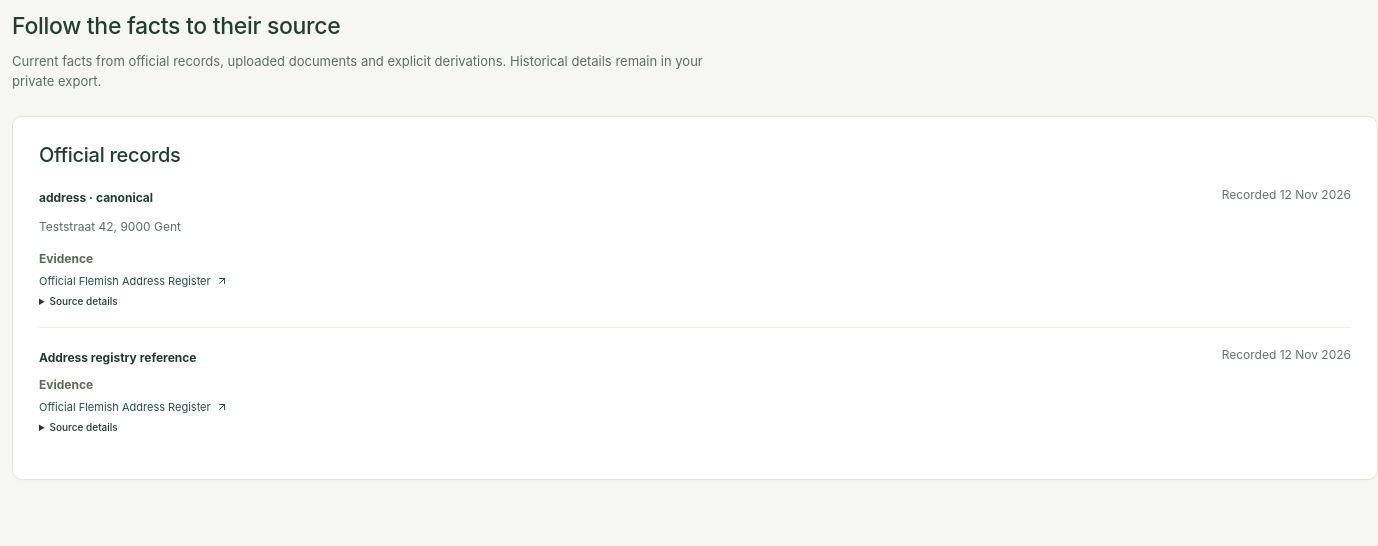
Scenario: Evidence keeps source details closed, with readable facts, authority, source and date
Expected: the heading "Official records" is shown, [39,143,180,167]
Expected: the text "Teststraat 42, 9000 Gent" is shown, [39,219,181,234]
What coordinates should you click on to do the following:
click the heading "Source details" below "Address registry reference"
I would click on:
 (84, 427)
Its box is [50,421,118,433].
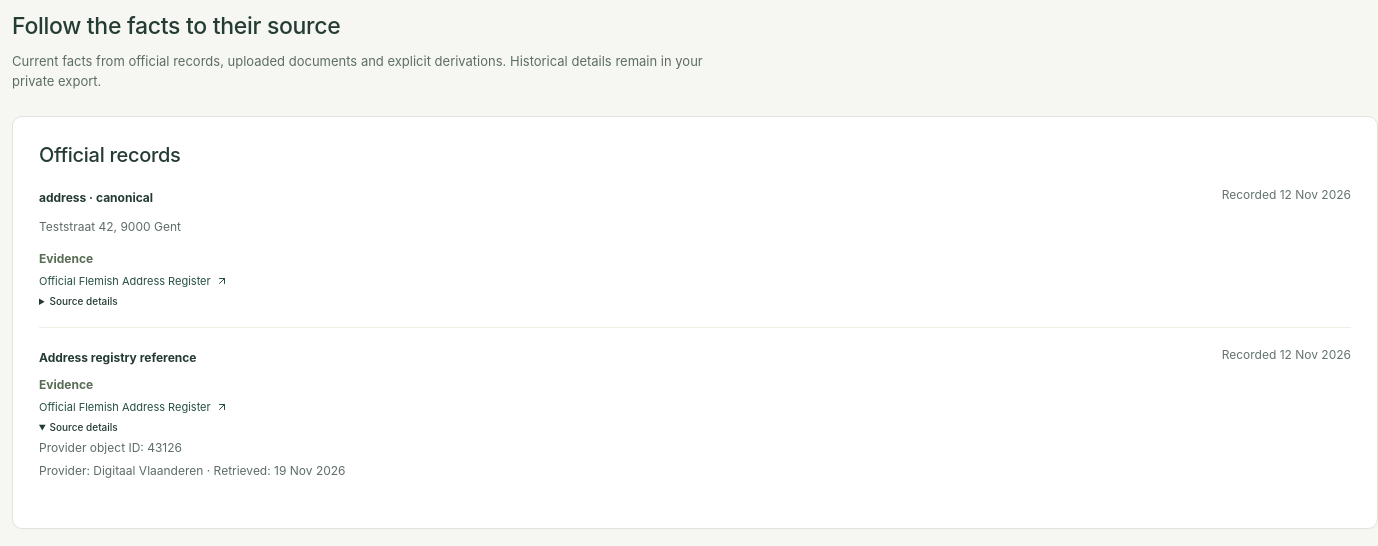
Result: the text "Provider object ID: 43126" is shown at [39,440,182,455]
Result: the text "Provider: Digitaal Vlaanderen" is shown at [39,463,203,478]
Result: the text "Retrieved: 19 Nov 2026" is shown at [214,463,346,478]
